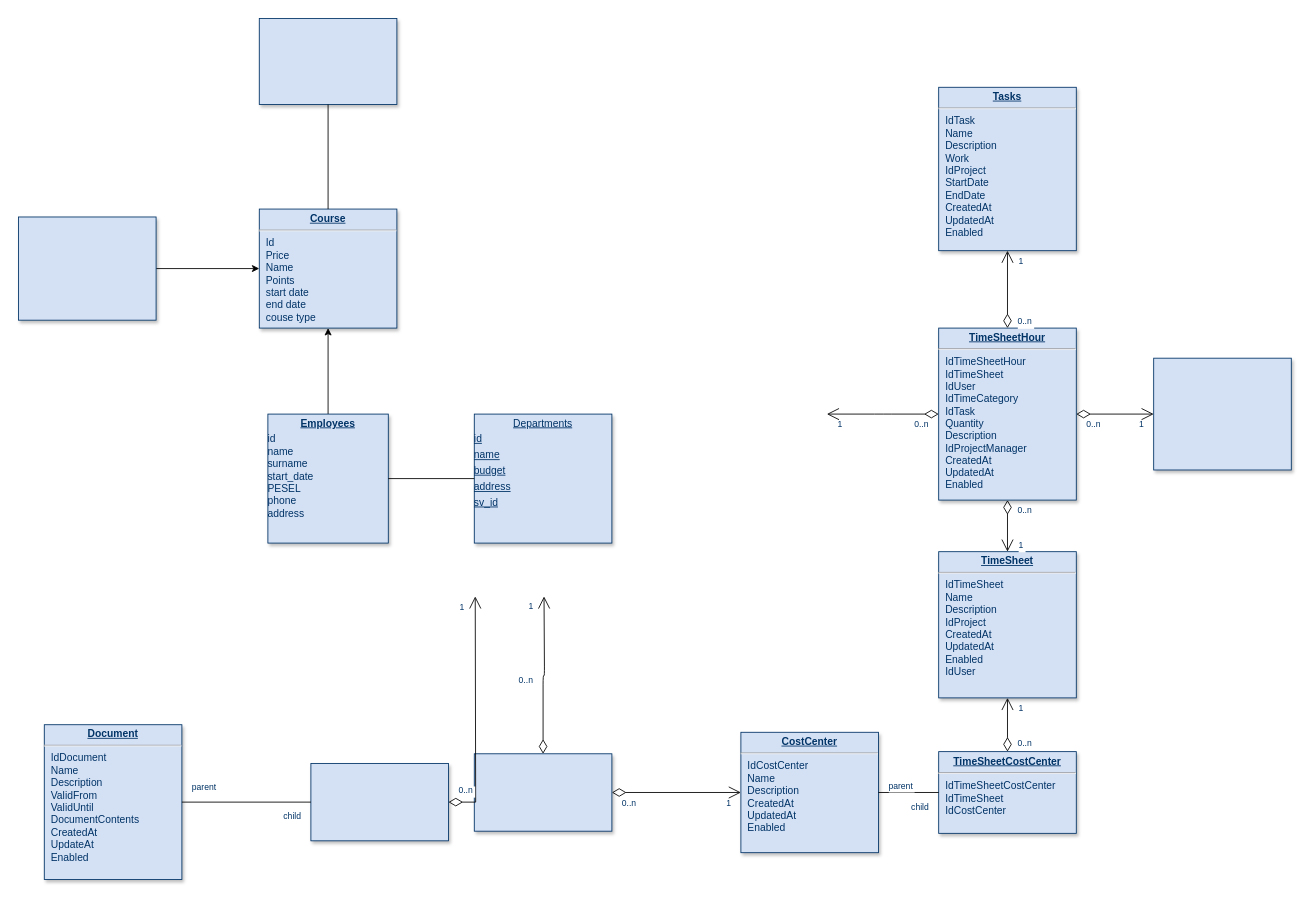
Image size: 1312x901. Some labels were removed from this diagram. The shapes that lost their labels are listed below. From the top down, each one's centre as x and y in pixels, then its label:
At [328,62]: "Scores record id PK course id score date score value".
At [87,269]: "Student Id name surname pesel phone address course atended".
At [1222,415]: "TimeCategory IdTimeCategory Name Description CreatedAt UpdatedAt Enabled".
At [380,803]: "ProjectDocument IdProjectDocument IdProject IdDocument".
At [543,793]: "ProjectCostCenter IdProjectCostCenter IdProject IdCostCenter".
